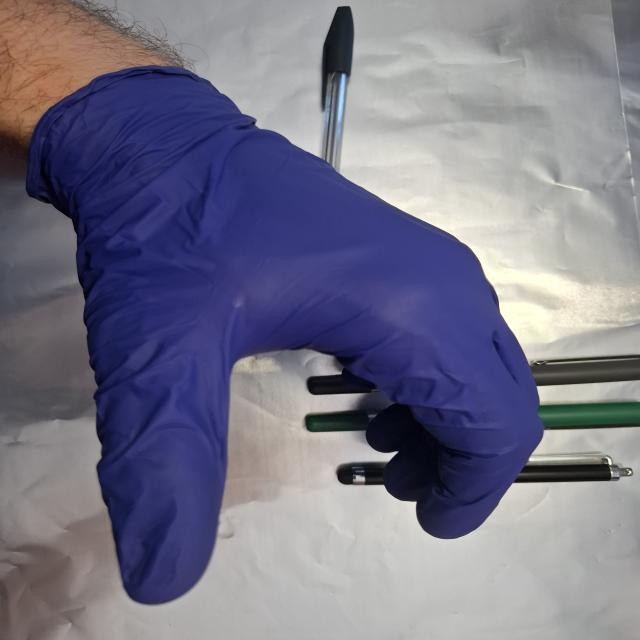glove_on: (30, 64, 549, 608)
